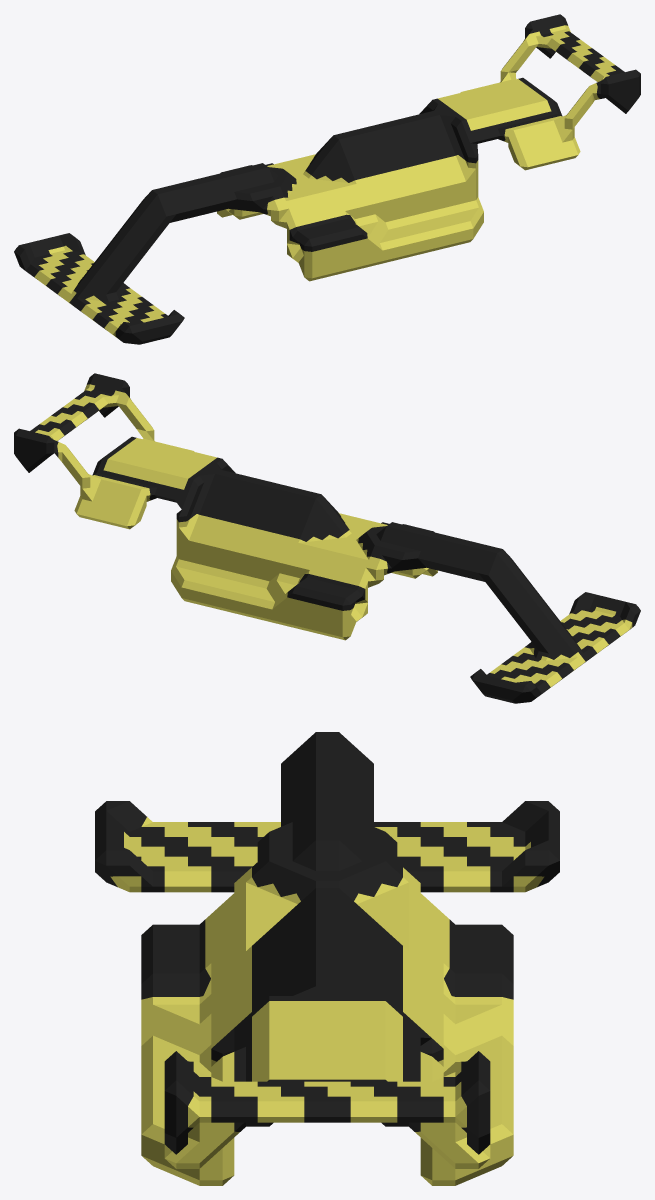
The model's file is f1_yellow.fbx.
The picture shows the model from 3 angles, top to bottom: view 1: azimuth 30°, elevation 25°; view 2: azimuth 150°, elevation 25°; view 3: azimuth 270°, elevation 25°; orthographic projection. The views are drawn at different scales.
Visible parts, largest first — view 1: f1_yellow; view 2: f1_yellow; view 3: f1_yellow.
Boxes of the visible parts, x1,y1,x2,y2 form: f1_yellow: (14,14,640,344); f1_yellow: (14,373,640,703); f1_yellow: (95,732,559,1185).
Bounding box in the file's own units: 5300 × 1300 × 2000.
